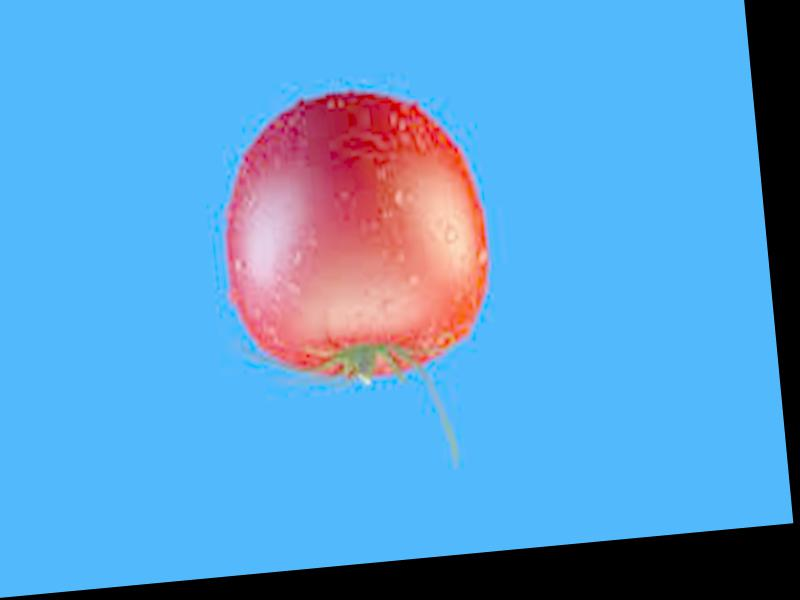Tomato: (209, 79, 499, 392)
